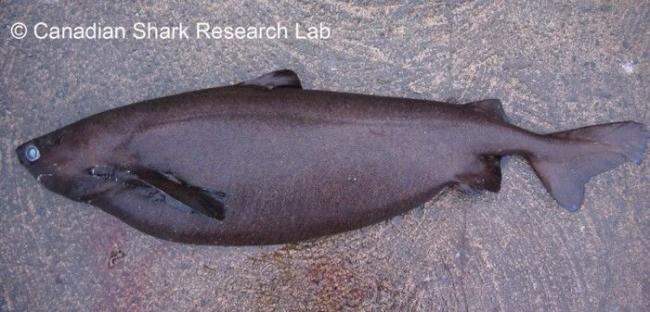fish: (15, 69, 648, 245)
